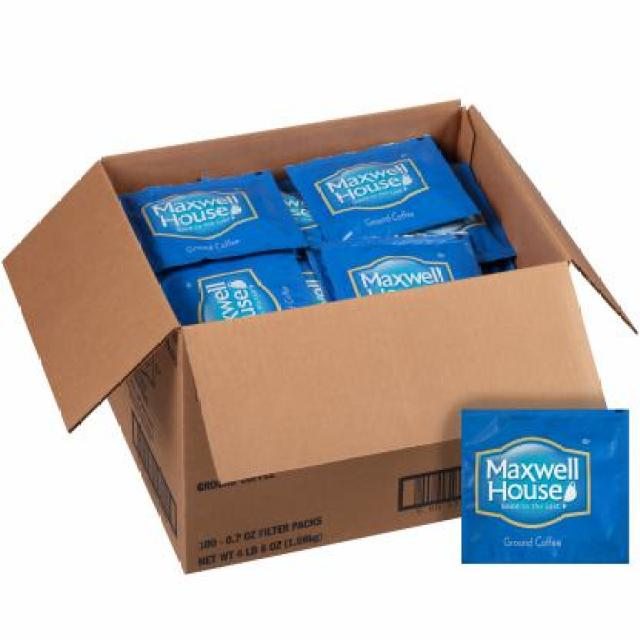box: (3, 90, 639, 582)
